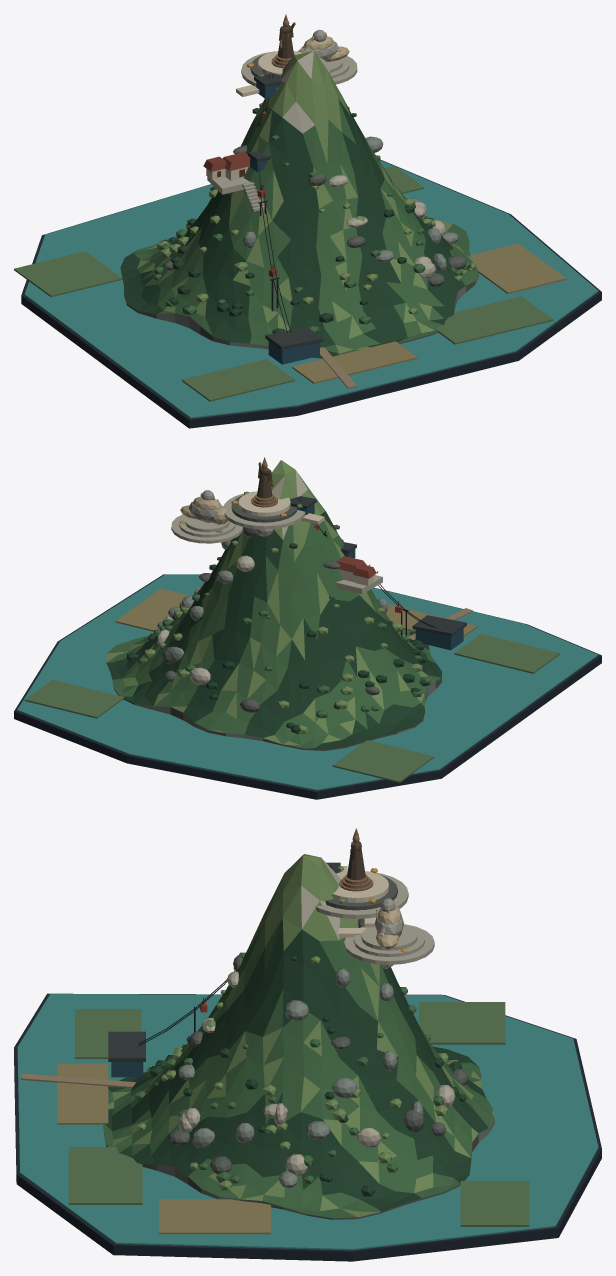
The model's file is mysterios5.glb.
3 views of the same model, one above another, from view 1: azimuth 30°, elevation 25°; view 2: azimuth 150°, elevation 25°; view 3: azimuth 270°, elevation 25° (orthographic). The views are drawn at different scales.
Parts seen in each view (by area): view 1: MOUNTAIN_TERRAIN, BASE, LOWLAND_ENVIRONMENT, FOREST, ROCK_OUTCROPS, CABLE_CAR_STATIONS, BA_PAGODA_COMPLEX, SUMMIT_TERRACES, MAITREYA_STATUE, CABLE_CAR_CABLES, TAY_BO_DA_SON_STATUE; view 2: MOUNTAIN_TERRAIN, BASE, LOWLAND_ENVIRONMENT, FOREST, SUMMIT_TERRACES, ROCK_OUTCROPS, CABLE_CAR_STATIONS, BA_PAGODA_COMPLEX, MAITREYA_STATUE, TAY_BO_DA_SON_STATUE; view 3: MOUNTAIN_TERRAIN, BASE, LOWLAND_ENVIRONMENT, ROCK_OUTCROPS, SUMMIT_TERRACES, FOREST, CABLE_CAR_STATIONS, MAITREYA_STATUE, TAY_BO_DA_SON_STATUE.
Boxes of the visible parts, x1,y1,x2,y2 form: MOUNTAIN_TERRAIN: (120, 50, 478, 358); BASE: (21, 160, 601, 428); LOWLAND_ENVIRONMENT: (14, 165, 566, 401); FOREST: (154, 103, 476, 333); ROCK_OUTCROPS: (164, 136, 466, 286); CABLE_CAR_STATIONS: (248, 73, 323, 364); BA_PAGODA_COMPLEX: (203, 152, 264, 211); SUMMIT_TERRACES: (236, 51, 357, 96); MAITREYA_STATUE: (298, 29, 349, 61); CABLE_CAR_CABLES: (256, 74, 291, 333); TAY_BO_DA_SON_STATUE: (271, 14, 295, 68); MOUNTAIN_TERRAIN: (106, 460, 441, 750); BASE: (14, 574, 601, 799); LOWLAND_ENVIRONMENT: (24, 588, 559, 782); FOREST: (126, 524, 431, 734); SUMMIT_TERRACES: (171, 491, 324, 543); ROCK_OUTCROPS: (157, 527, 388, 712); CABLE_CAR_STATIONS: (290, 496, 466, 650); BA_PAGODA_COMPLEX: (335, 556, 382, 594); MAITREYA_STATUE: (180, 490, 227, 524); TAY_BO_DA_SON_STATUE: (251, 457, 277, 507); MOUNTAIN_TERRAIN: (103, 854, 494, 1219); BASE: (14, 993, 601, 1261); LOWLAND_ENVIRONMENT: (20, 1002, 529, 1234); ROCK_OUTCROPS: (168, 918, 468, 1187); SUMMIT_TERRACES: (315, 866, 434, 964); FOREST: (134, 952, 466, 1196); CABLE_CAR_STATIONS: (108, 862, 340, 1077); MAITREYA_STATUE: (374, 898, 403, 949); TAY_BO_DA_SON_STATUE: (339, 828, 373, 891).
Bounding box in the file's own units: 24 × 13.25 × 23.1.
